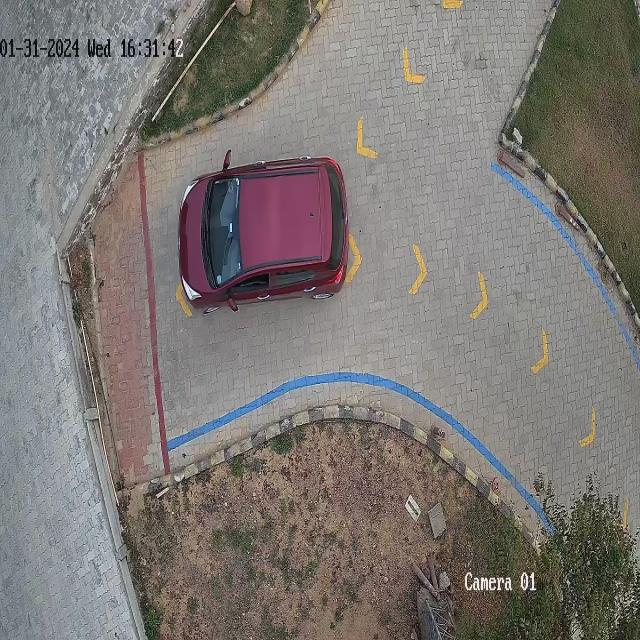car: (178, 158, 349, 311)
